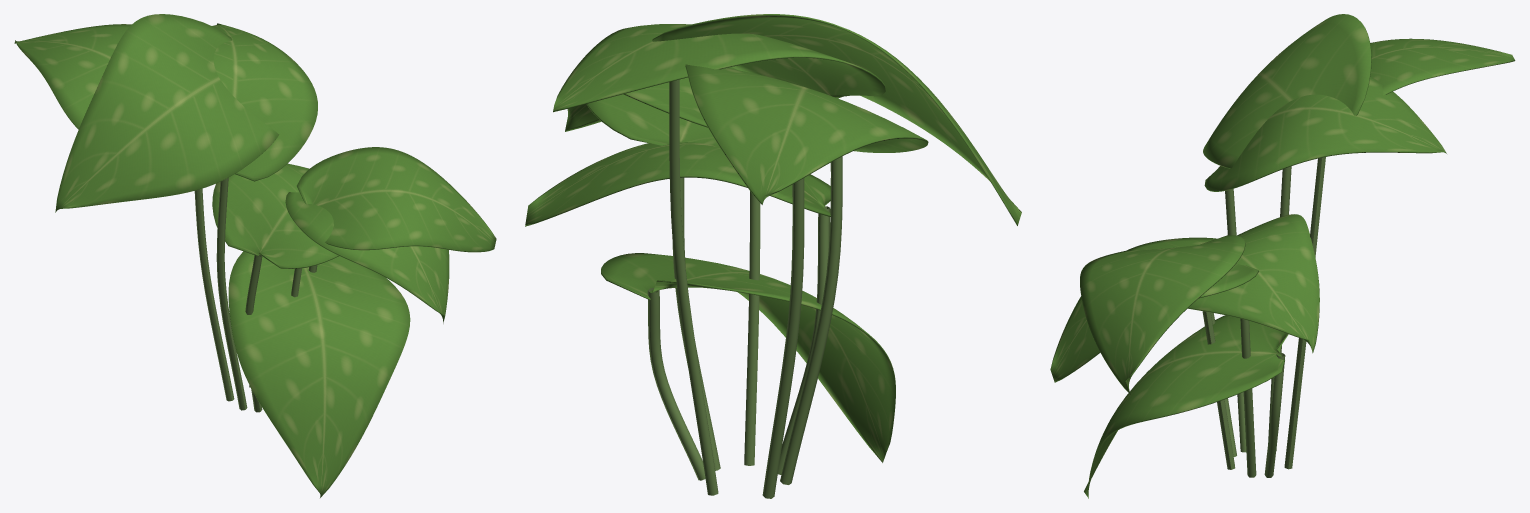
The model's file is pothos-stage-2-v06.glb.
3 renders of one model, left to right at view 1: azimuth 30°, elevation 25°; view 2: azimuth 150°, elevation 25°; view 3: azimuth 270°, elevation 25°, orthographic. The views are drawn at different scales.
Parts seen in each view (by area): view 1: V06 pothos-stage-2 Leaf_5, V06 pothos-stage-2 Leaf_2, V06 pothos-stage-2 Leaf_3, V06 pothos-stage-2 Leaf_1, V06 pothos-stage-2 Leaf_6, V06 pothos-stage-2 Leaf_4, V06 pothos-stage-2 Leaf_0, V06 pothos-stage-2 Petiole_1, V06 pothos-stage-2 Petiole_4, V06 pothos-stage-2 Petiole_6; view 2: V06 pothos-stage-2 Leaf_4, V06 pothos-stage-2 Leaf_5, V06 pothos-stage-2 Leaf_1, V06 pothos-stage-2 Leaf_2, V06 pothos-stage-2 Leaf_6, V06 pothos-stage-2 Petiole_2, V06 pothos-stage-2 Petiole_1, V06 pothos-stage-2 Petiole_4, V06 pothos-stage-2 Leaf_0, V06 pothos-stage-2 Petiole_3, V06 pothos-stage-2 Petiole_5, V06 pothos-stage-2 Leaf_3 (+2 smaller); view 3: V06 pothos-stage-2 Leaf_3, V06 pothos-stage-2 Leaf_1, V06 pothos-stage-2 Leaf_5, V06 pothos-stage-2 Leaf_2, V06 pothos-stage-2 Leaf_6, V06 pothos-stage-2 Leaf_4, V06 pothos-stage-2 Leaf_0, V06 pothos-stage-2 Petiole_2, V06 pothos-stage-2 Petiole_0, V06 pothos-stage-2 Petiole_5, V06 pothos-stage-2 Petiole_3, V06 pothos-stage-2 Petiole_1 (+1 smaller).
Part boxes in pixels (x1=…): V06 pothos-stage-2 Leaf_5: x1=228, y1=251, x2=410, y2=497; V06 pothos-stage-2 Leaf_2: x1=55, y1=14, x2=279, y2=212; V06 pothos-stage-2 Leaf_3: x1=296, y1=147, x2=496, y2=252; V06 pothos-stage-2 Leaf_1: x1=212, y1=23, x2=317, y2=181; V06 pothos-stage-2 Leaf_6: x1=212, y1=163, x2=338, y2=268; V06 pothos-stage-2 Leaf_4: x1=14, y1=24, x2=131, y2=129; V06 pothos-stage-2 Leaf_0: x1=285, y1=192, x2=449, y2=323; V06 pothos-stage-2 Petiole_1: x1=216, y1=177, x2=247, y2=410; V06 pothos-stage-2 Petiole_4: x1=194, y1=188, x2=234, y2=401; V06 pothos-stage-2 Petiole_6: x1=245, y1=254, x2=262, y2=412; V06 pothos-stage-2 Leaf_4: x1=685, y1=64, x2=928, y2=204; V06 pothos-stage-2 Leaf_5: x1=601, y1=253, x2=895, y2=462; V06 pothos-stage-2 Leaf_1: x1=553, y1=24, x2=885, y2=112; V06 pothos-stage-2 Leaf_2: x1=652, y1=14, x2=1021, y2=225; V06 pothos-stage-2 Leaf_6: x1=525, y1=142, x2=830, y2=226; V06 pothos-stage-2 Petiole_2: x1=669, y1=79, x2=718, y2=495; V06 pothos-stage-2 Petiole_1: x1=780, y1=156, x2=842, y2=484; V06 pothos-stage-2 Petiole_4: x1=762, y1=178, x2=804, y2=498; V06 pothos-stage-2 Leaf_0: x1=586, y1=94, x2=719, y2=147; V06 pothos-stage-2 Petiole_3: x1=744, y1=191, x2=760, y2=465; V06 pothos-stage-2 Petiole_5: x1=647, y1=288, x2=705, y2=480; V06 pothos-stage-2 Leaf_3: x1=565, y1=67, x2=737, y2=131; V06 pothos-stage-2 Leaf_3: x1=1080, y1=235, x2=1245, y2=394; V06 pothos-stage-2 Leaf_1: x1=1204, y1=76, x2=1446, y2=191; V06 pothos-stage-2 Leaf_5: x1=1084, y1=315, x2=1288, y2=498; V06 pothos-stage-2 Leaf_2: x1=1203, y1=14, x2=1371, y2=168; V06 pothos-stage-2 Leaf_6: x1=1188, y1=214, x2=1319, y2=353; V06 pothos-stage-2 Leaf_4: x1=1370, y1=38, x2=1515, y2=95; V06 pothos-stage-2 Leaf_0: x1=1050, y1=237, x2=1258, y2=382; V06 pothos-stage-2 Petiole_2: x1=1284, y1=157, x2=1325, y2=469; V06 pothos-stage-2 Petiole_0: x1=1240, y1=318, x2=1256, y2=477; V06 pothos-stage-2 Petiole_5: x1=1264, y1=353, x2=1285, y2=477; V06 pothos-stage-2 Petiole_3: x1=1202, y1=311, x2=1235, y2=469; V06 pothos-stage-2 Petiole_1: x1=1225, y1=189, x2=1246, y2=452.
Size of the model in its own units: 1.39 by 1.45 by 1.37.
Materials: 2 (1 with a texture image).
